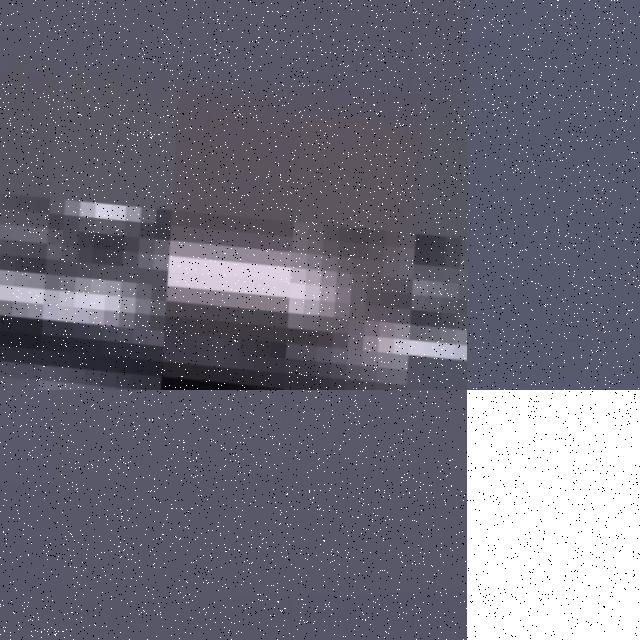drone: (0, 0, 467, 390), (467, 390, 640, 640)
